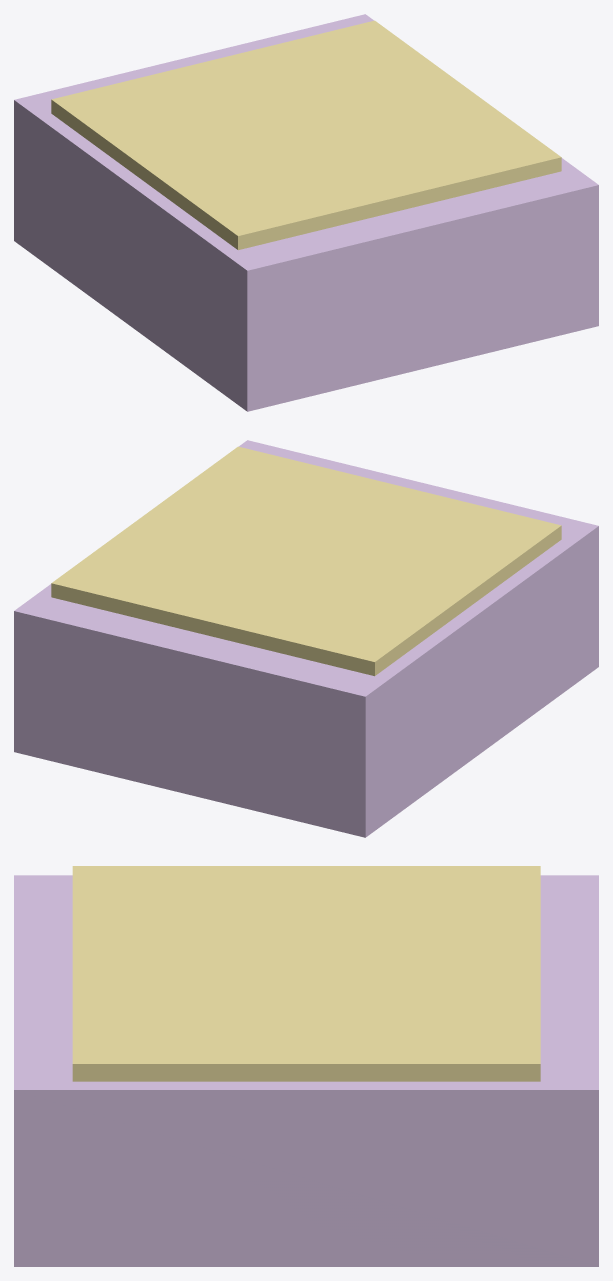
File: Prop_Pet_AMF_Bowl_V14.glb
The picture shows the model from 3 angles, top to bottom: view 1: azimuth 30°, elevation 25°; view 2: azimuth 150°, elevation 25°; view 3: azimuth 270°, elevation 25°; orthographic projection. The views are drawn at different scales.
Visible parts, largest first — view 1: Prop_Pet_AMF_Bowl_V14; view 2: Prop_Pet_AMF_Bowl_V14; view 3: Prop_Pet_AMF_Bowl_V14.
Part boxes in pixels (bbox=[...]): Prop_Pet_AMF_Bowl_V14: bbox=[14, 14, 598, 411]; Prop_Pet_AMF_Bowl_V14: bbox=[14, 440, 598, 837]; Prop_Pet_AMF_Bowl_V14: bbox=[14, 866, 598, 1266].
Bounding box in the file's own units: 0.2608 × 0.11 × 0.3.
